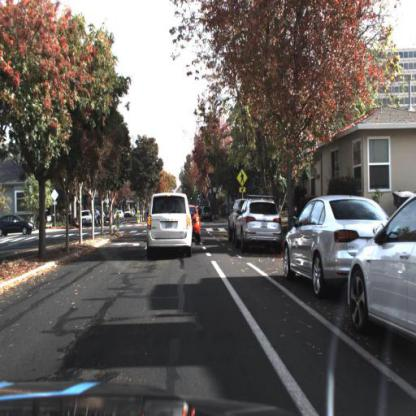car: (281, 194, 393, 297), (348, 193, 416, 353), (144, 190, 195, 265), (237, 196, 284, 259), (1, 212, 38, 239), (191, 204, 203, 245)
